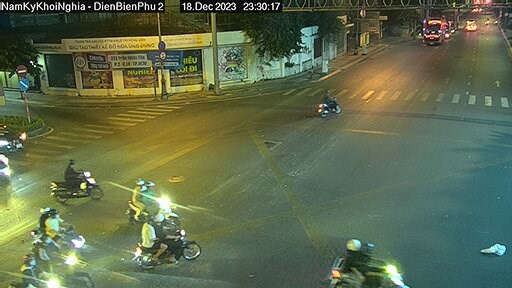car: (421, 18, 447, 49)
motorbike: (129, 213, 202, 265), (45, 156, 105, 203), (120, 182, 178, 213), (315, 87, 341, 114)
